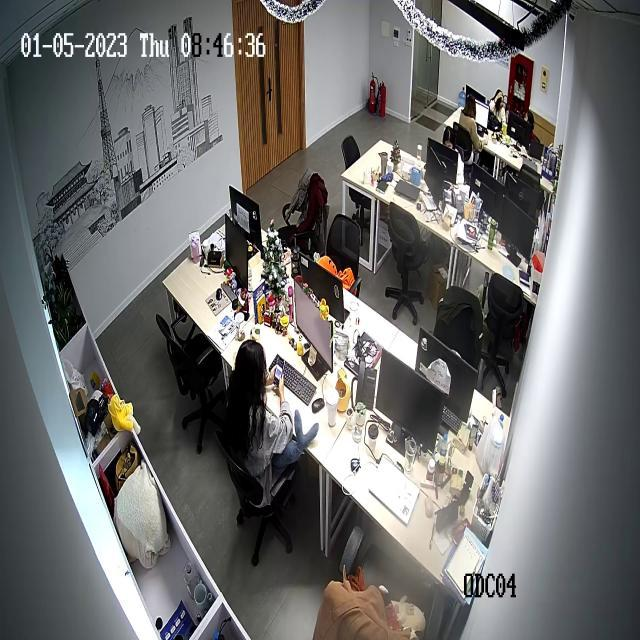person: (223, 338, 297, 502), (458, 86, 487, 160), (487, 83, 508, 128)
